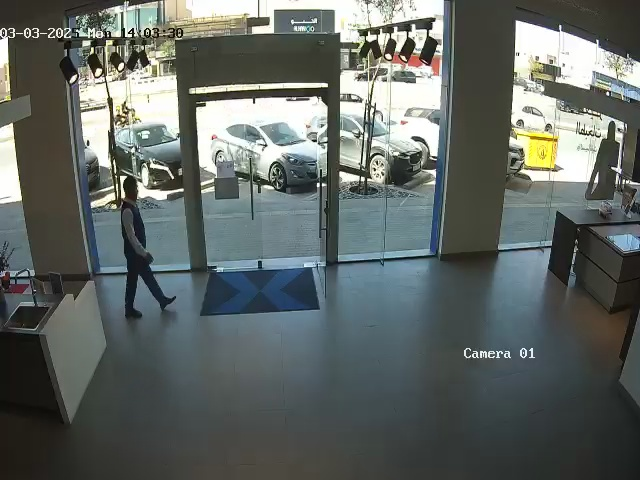employee: (120, 175, 176, 319)
